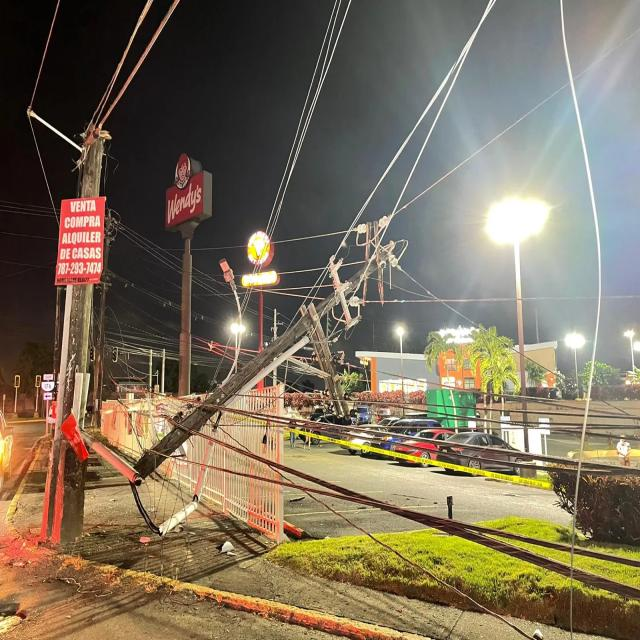Inclined Pole: (73, 216, 410, 494)
